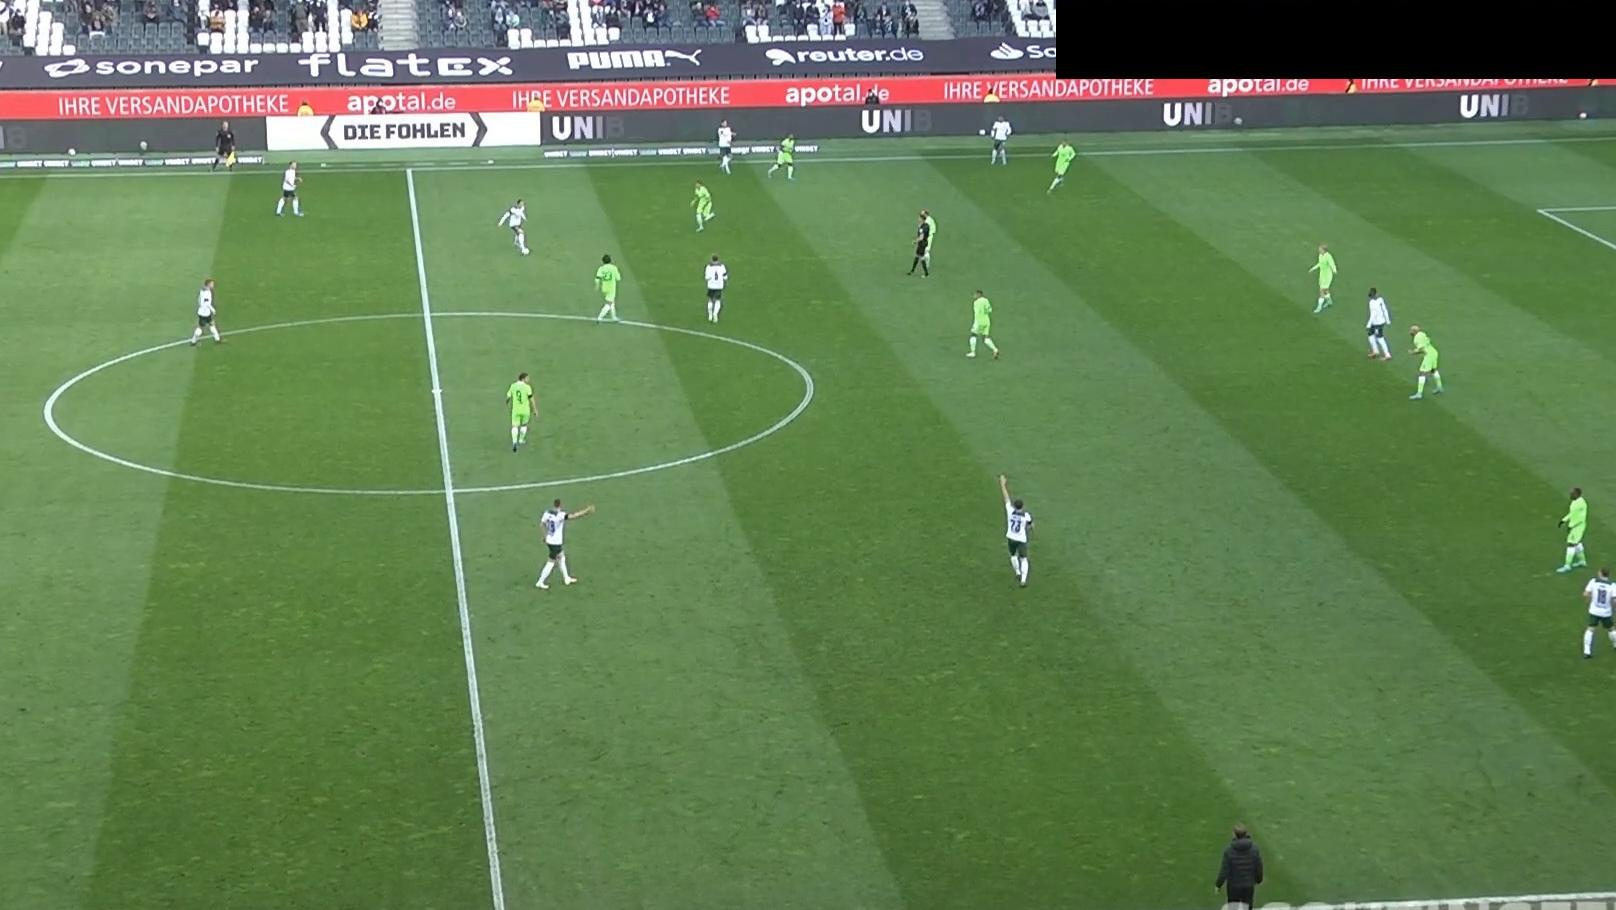ball: (519, 245, 531, 257)
